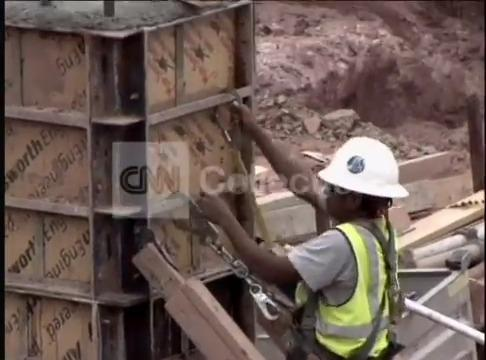Helmet: (314, 145, 412, 203)
Person: (205, 96, 419, 353)
Safety Vest: (322, 238, 385, 346)
bare-arms: (195, 190, 230, 225), (235, 105, 256, 136)
